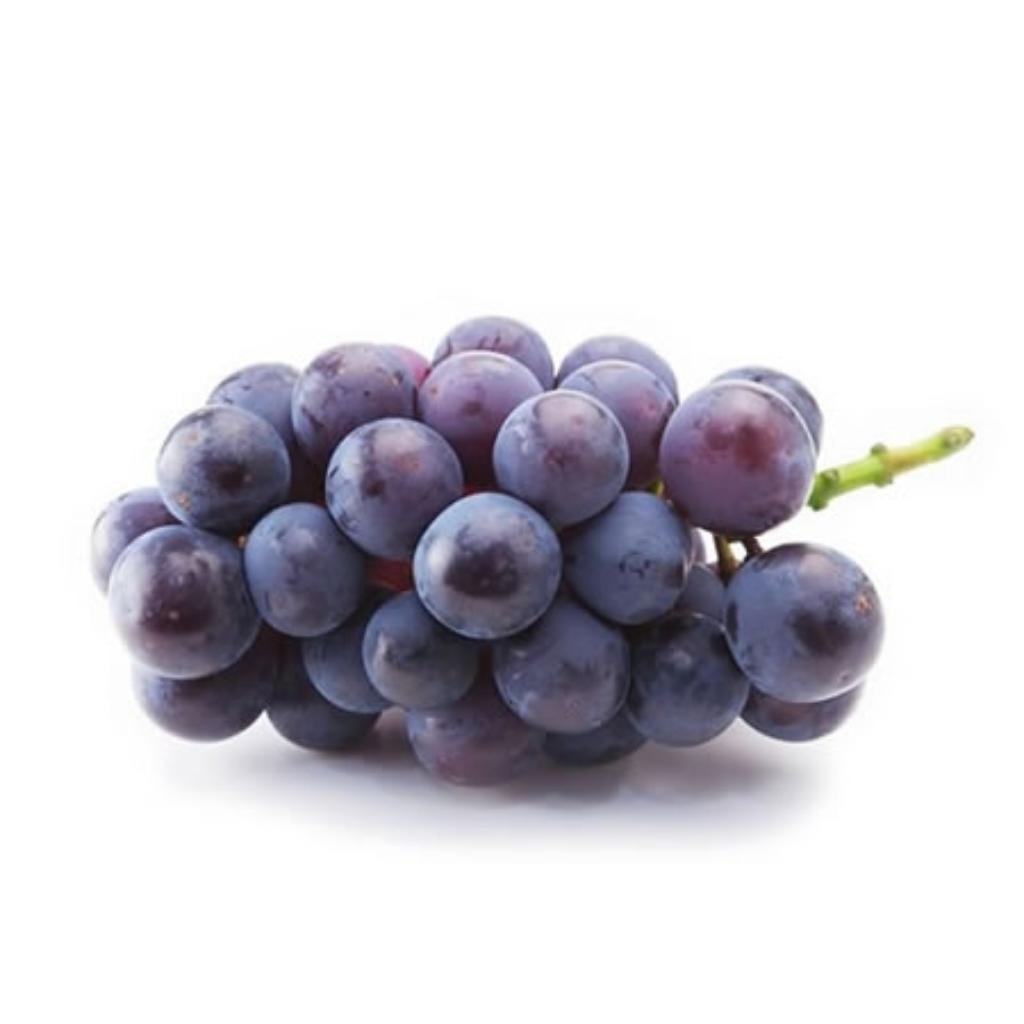grape: (91, 312, 917, 779)
